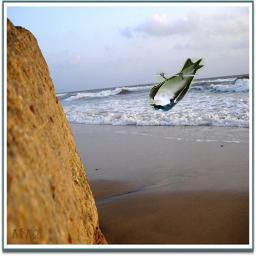Swallow: (149, 58, 205, 112)
